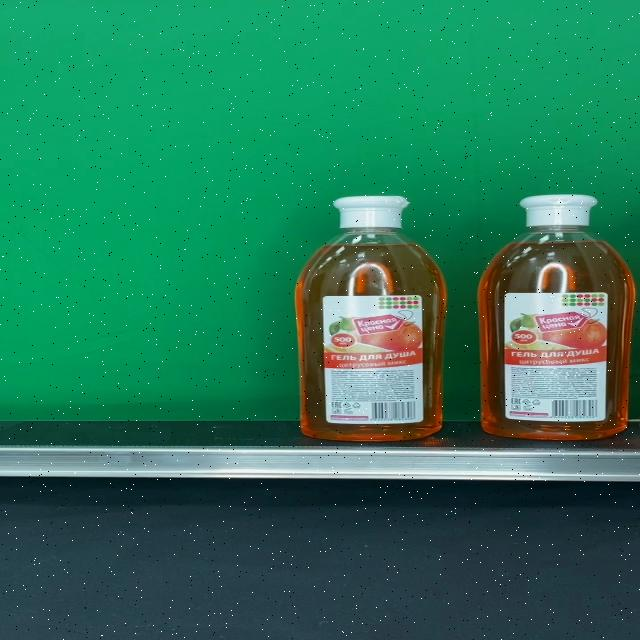Bottle: (477, 194, 635, 440), (297, 194, 447, 441)
Cap: (518, 194, 599, 227), (332, 195, 409, 229)
